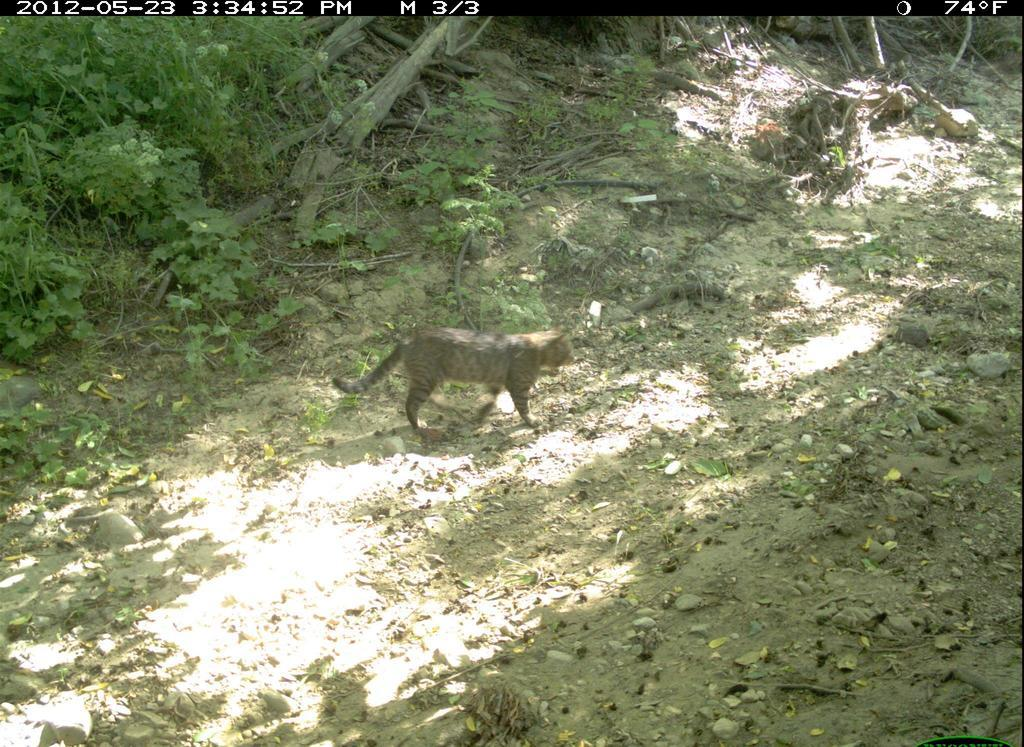cat: (322, 309, 589, 442)
